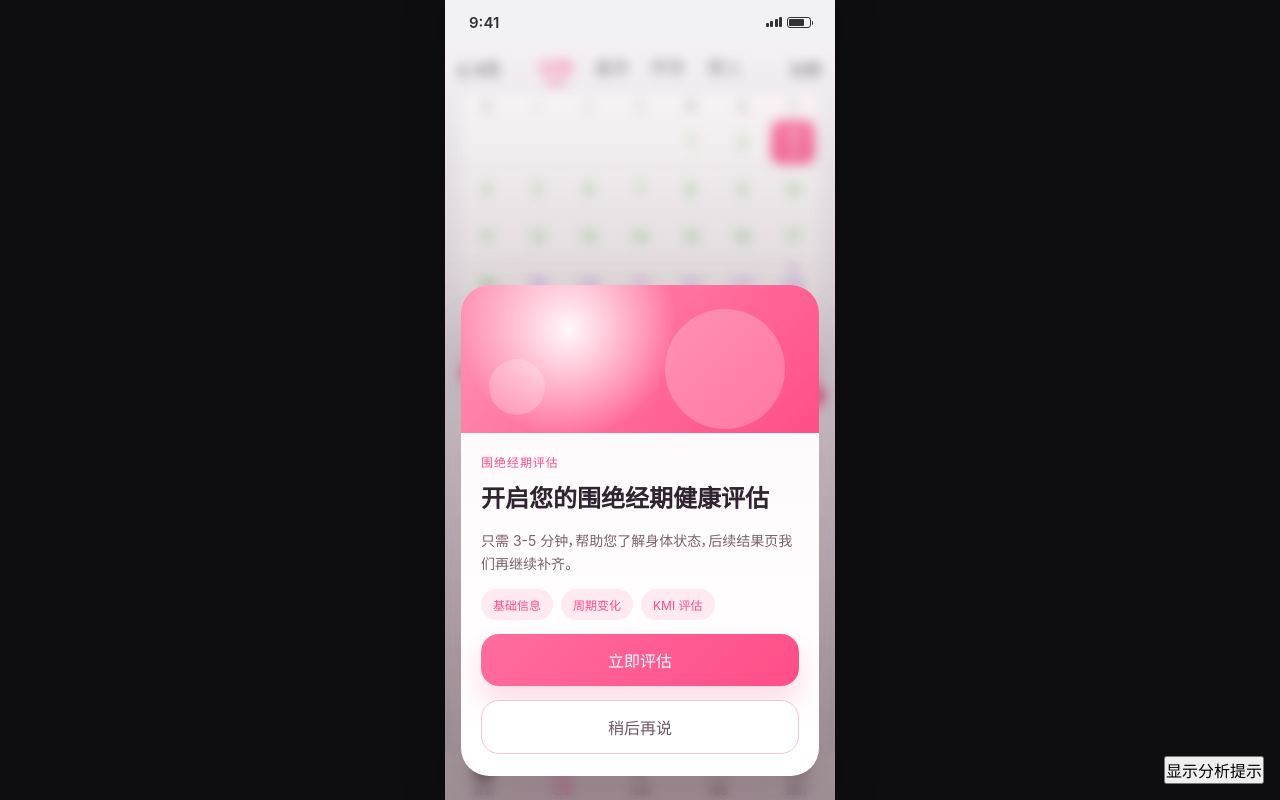
Scenario: scene1 routing › lets the user enter perimenopause mode directly from the normal scene1 calendar page
Step 1. Click the button "稍后再说" → (640, 727), box [481,700,799,754]
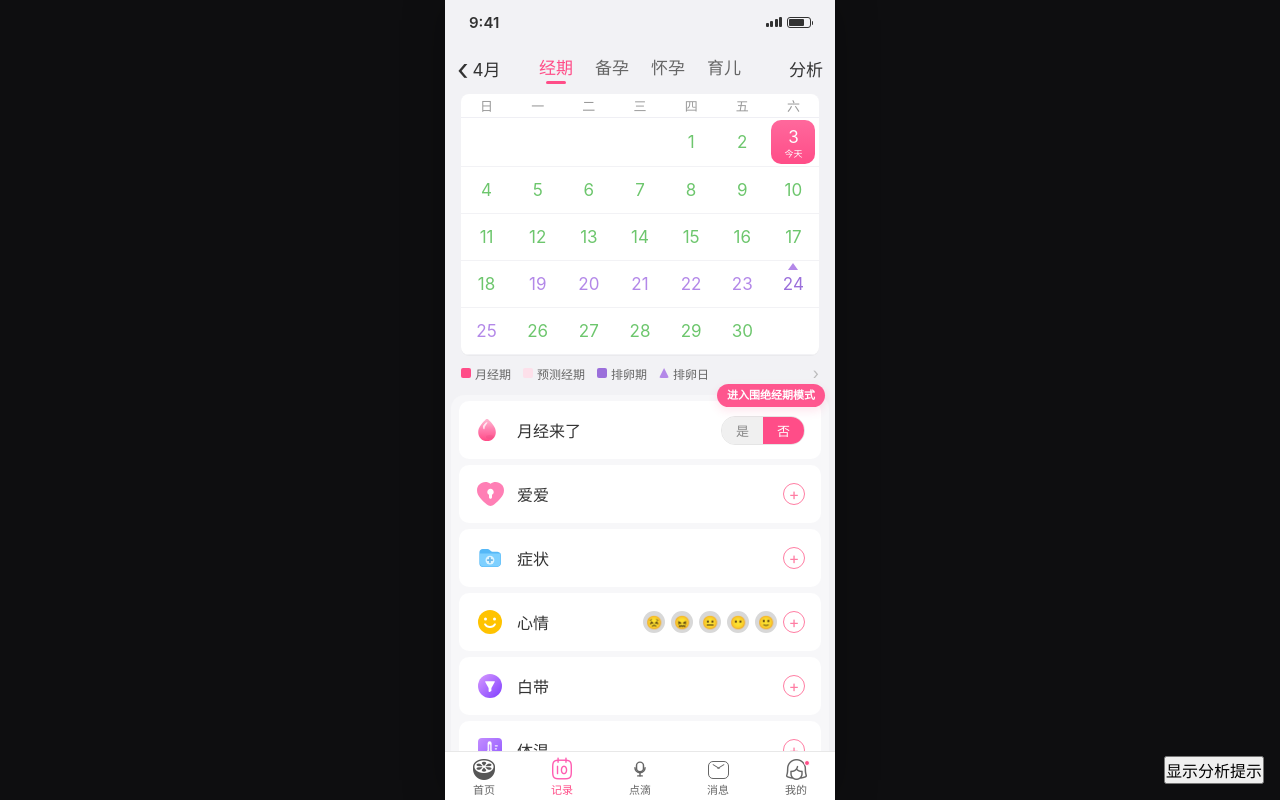
Step 2. Click the button "进入围绝经期模式" → (771, 395), box [717,384,825,407]
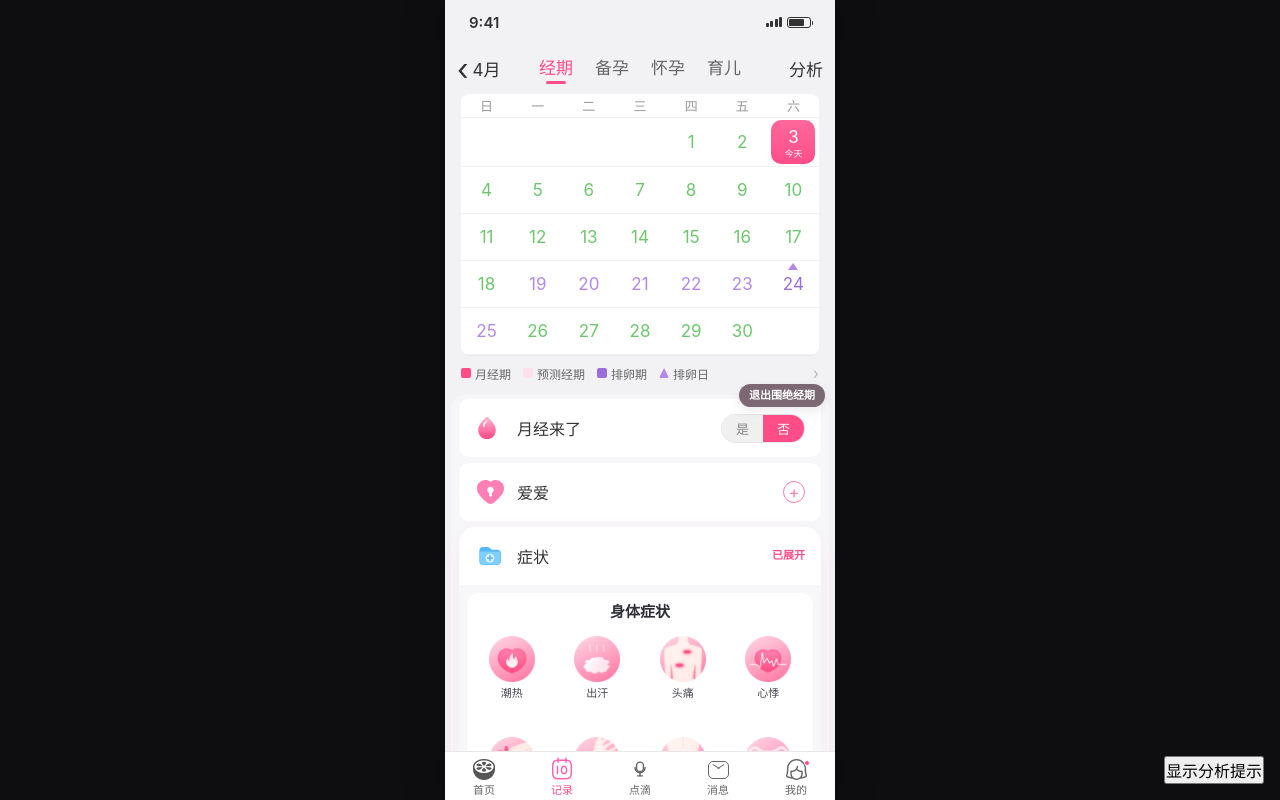
Expected: the element with test id "scene1-perimenopause-route-shell" is shown, [445,0,835,799]
Expected: the button "退出围绝经期" is shown, [739,384,825,407]
